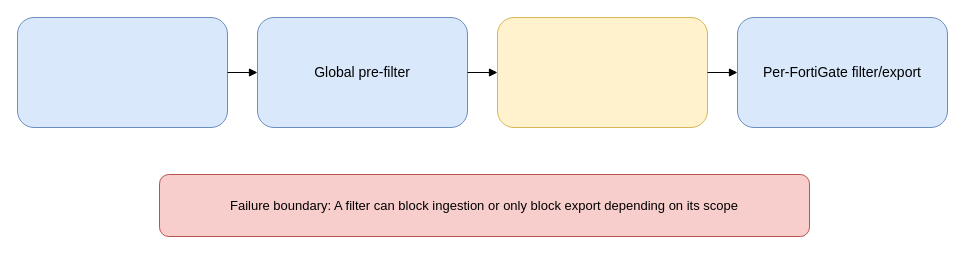
The diagram is 965 pixels wide and 254 high, and some of its shapes have lost their labels. The shapes that lost their labels are listed below. From the top down, each one's box as (x1, y1, x2, y2) in pixels, then its label:
(16, 16, 228, 128): LDAP/login information
(496, 16, 708, 128): FAC SSO session store
